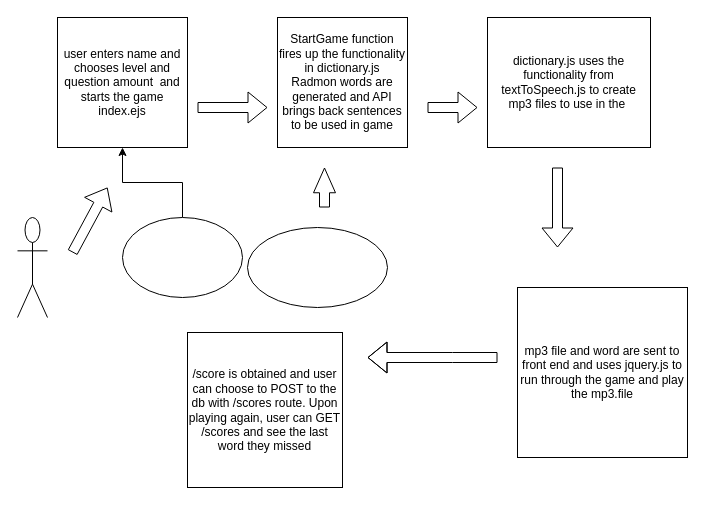
Image size: 705x505. Some labels were removed from this diagram. The shapes that lost their labels are listed below. From the top down, each one's centre as x and y in pixels, then its label:
At [32,267]: "Actor".
At [182,257]: "checkDifficulty.js defined word difficulty".
At [317,267]: "wordObject.js creates a class for the Word Object".
